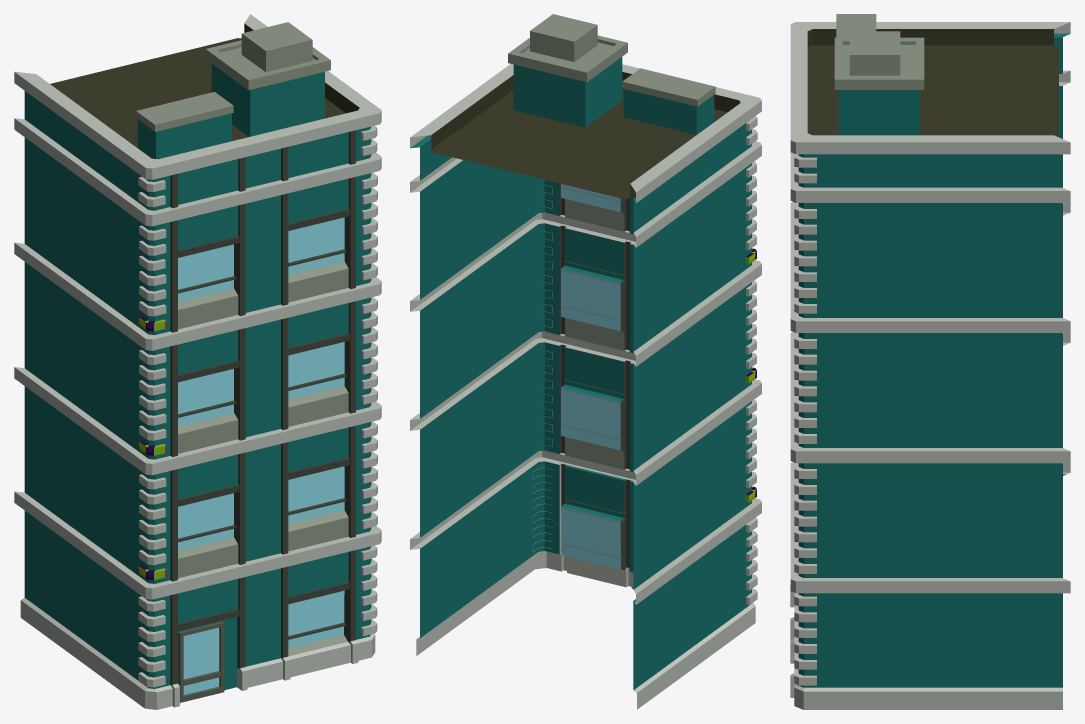
Rendered from House1.3.fbx.
3 views of the same model, side by side, from view 1: azimuth 30°, elevation 25°; view 2: azimuth 150°, elevation 25°; view 3: azimuth 270°, elevation 25° (orthographic). The views are drawn at different scales.
Visible parts, largest first — view 1: House13; view 2: House13; view 3: House13.
Boxes of the visible parts, <box> form: House13: <box>14,14,381,709</box>; House13: <box>410,14,761,709</box>; House13: <box>790,14,1070,709</box>.
Size of the model in its own units: 795 by 1950 by 782.
1 material, 1 textured.
